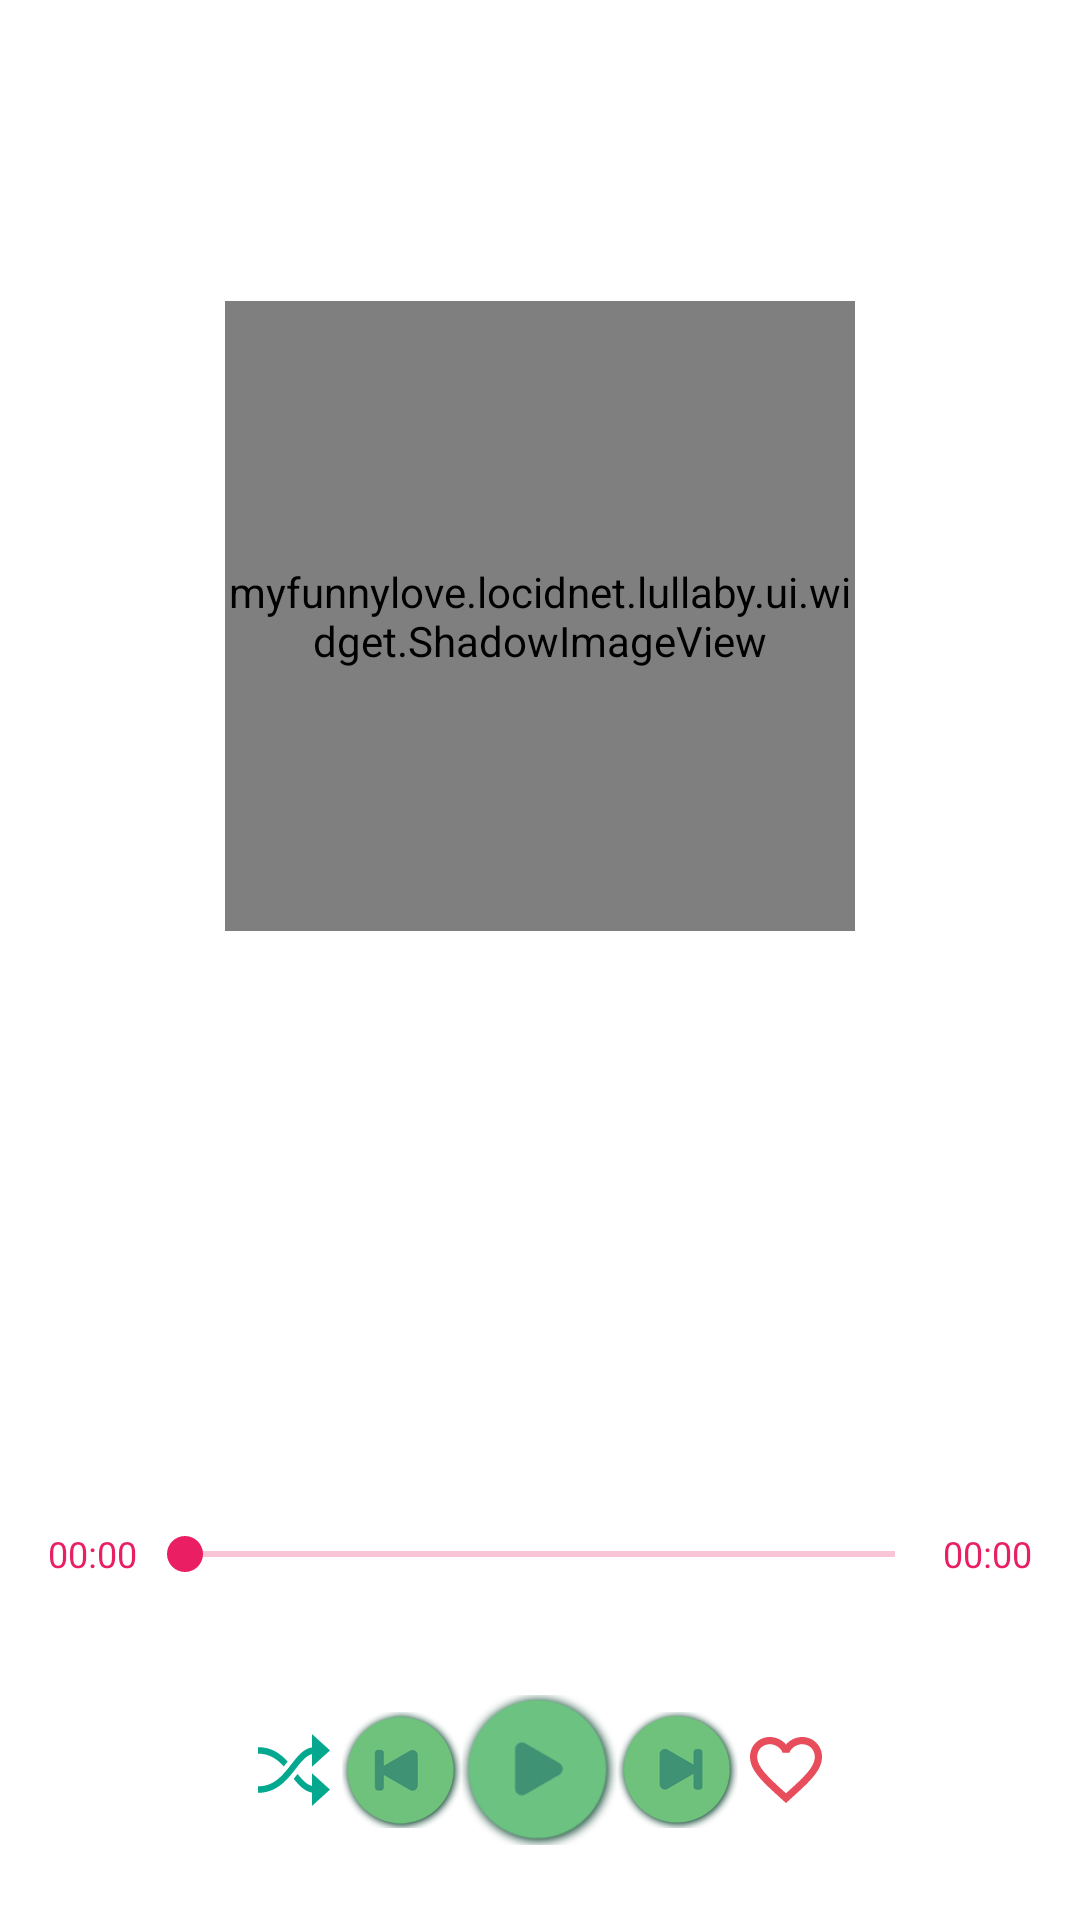

Icons on this 1080px x 1920px Android screen, each with its box as (x1, y1, x2, y2):
back: (343, 1712, 460, 1828)
favorite no: (750, 1737, 822, 1803)
next: (619, 1712, 737, 1828)
play: (462, 1695, 615, 1845)
play mode shuffle: (258, 1734, 330, 1806)
